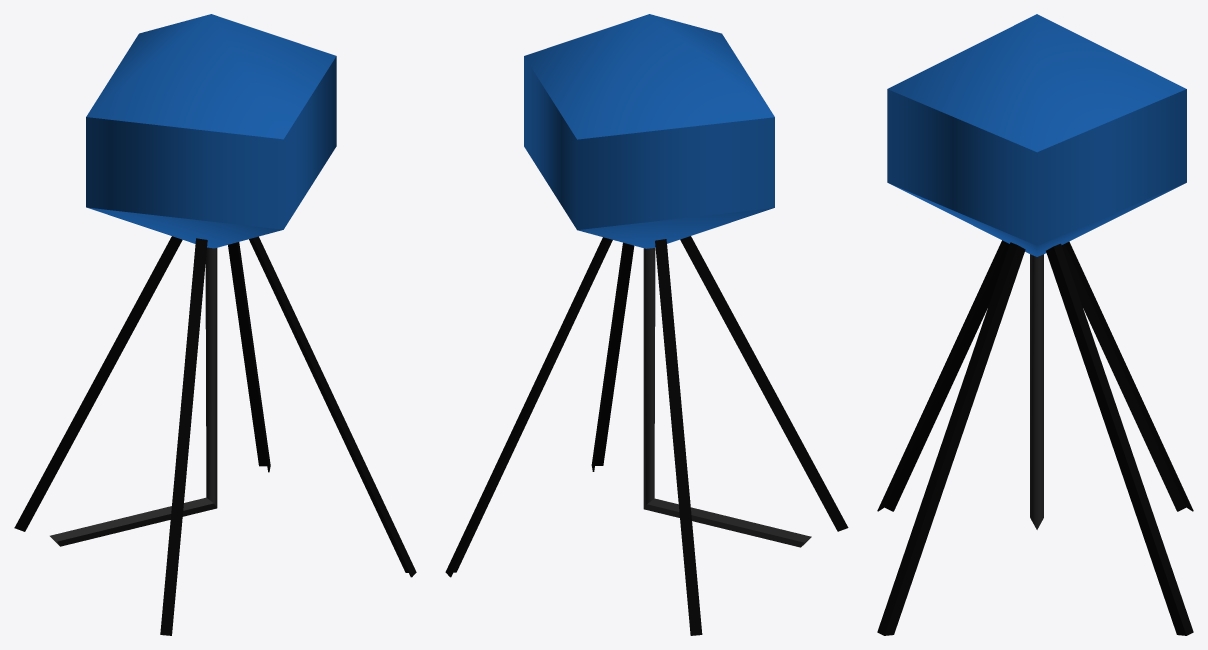
The model's file is Water_tower.FBX.
3 renders of one model, left to right at view 1: azimuth 30°, elevation 25°; view 2: azimuth 150°, elevation 25°; view 3: azimuth 270°, elevation 25°, orthographic. The views are drawn at different scales.
Visible parts, largest first — view 1: OilTank001, Cylinder001, Line001, Line002, Line004, Line003; view 2: OilTank001, Cylinder001, Line004, Line003, Line001, Line002; view 3: OilTank001, Line002, Line003, Line001, Line004, Cylinder001.
Boxes of the visible parts, bbox=[...] form: OilTank001: bbox=[86, 14, 336, 248]; Cylinder001: bbox=[50, 247, 217, 546]; Line001: bbox=[160, 238, 207, 635]; Line002: bbox=[249, 236, 416, 577]; Line004: bbox=[14, 236, 182, 531]; Line003: bbox=[228, 242, 270, 472]; OilTank001: bbox=[524, 14, 774, 248]; Cylinder001: bbox=[643, 248, 811, 547]; Line004: bbox=[655, 239, 702, 635]; Line003: bbox=[445, 237, 612, 577]; Line001: bbox=[680, 236, 848, 531]; Line002: bbox=[591, 242, 634, 471]; OilTank001: bbox=[887, 14, 1186, 256]; Line002: bbox=[877, 242, 1025, 635]; Line003: bbox=[1046, 243, 1193, 635]; Line001: bbox=[877, 240, 1009, 511]; Line004: bbox=[1061, 241, 1193, 511]; Cylinder001: bbox=[1030, 254, 1043, 529].
Size of the model in its own units: 47.9 by 83.97 by 43.21.
